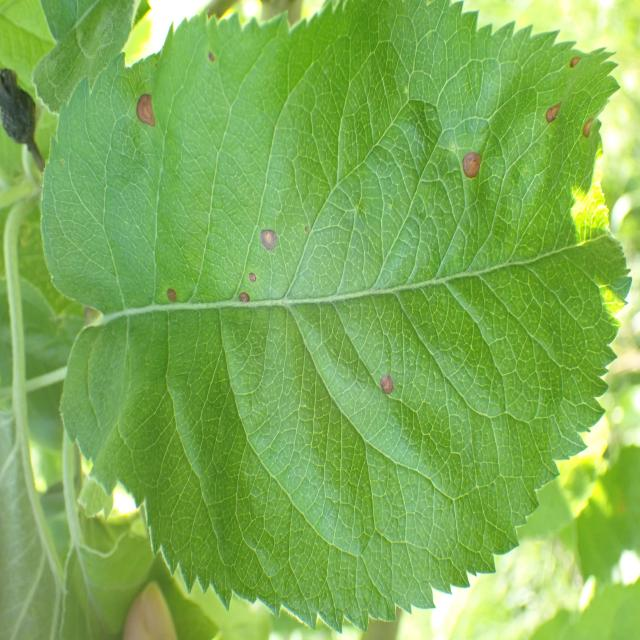Black Rot: (118, 86, 163, 142), (446, 134, 491, 188), (373, 350, 400, 410), (256, 217, 292, 261), (556, 39, 590, 81), (542, 91, 564, 142), (576, 102, 597, 151), (161, 274, 182, 314), (244, 256, 265, 294), (236, 281, 256, 319), (202, 36, 220, 74)
